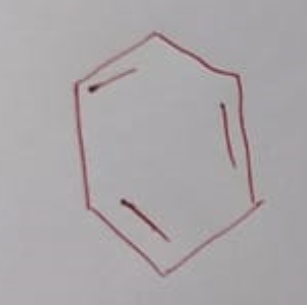shape_mask: (64, 26, 271, 287)
